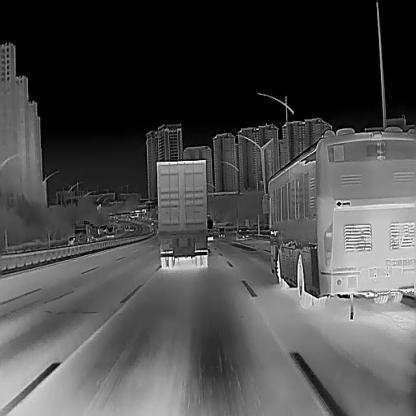car: (262, 125, 416, 306), (156, 159, 207, 267), (73, 220, 99, 242), (237, 225, 250, 235), (217, 227, 225, 237), (129, 224, 134, 231)
